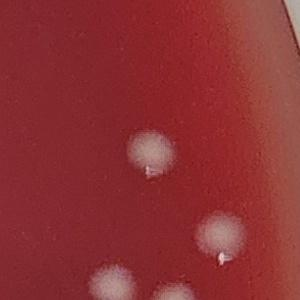colony: (190, 204, 253, 266), (120, 125, 184, 184), (80, 257, 144, 300), (148, 275, 203, 300)
